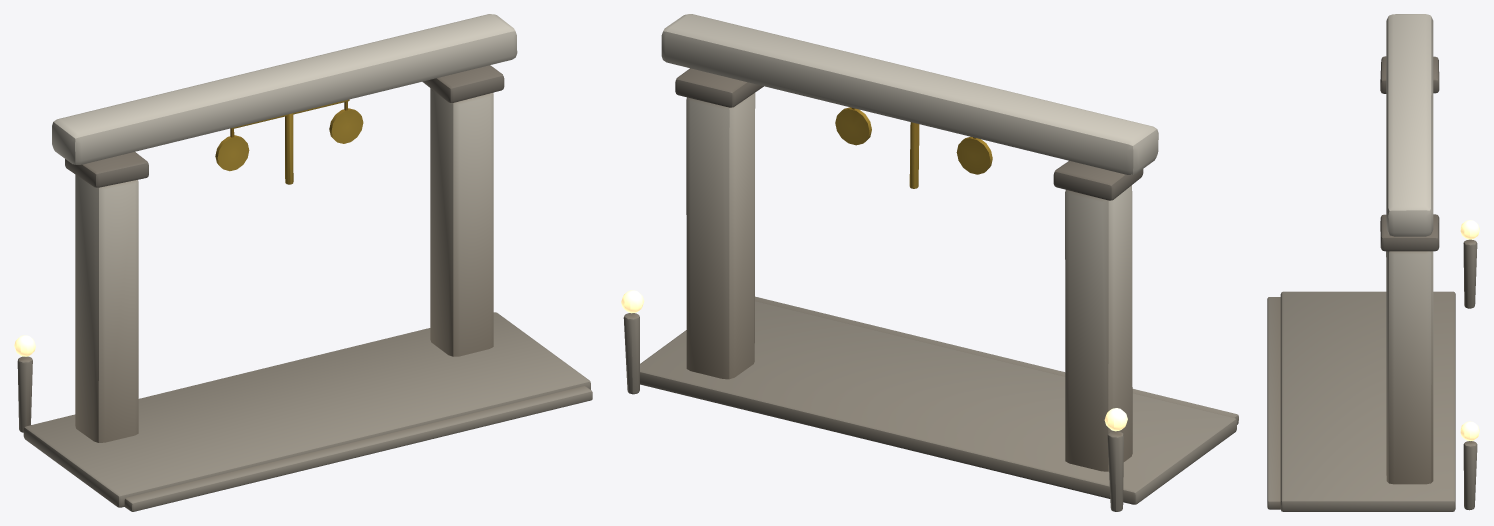
3 renders of one model, left to right at view 1: azimuth 30°, elevation 25°; view 2: azimuth 150°, elevation 25°; view 3: azimuth 270°, elevation 25°, orthographic. The views are drawn at different scales.
Visible parts, largest first — view 1: gate_956d6527; view 2: gate_956d6527; view 3: gate_956d6527.
Part boxes in pixels (x1,y1,x2,y2): gate_956d6527: (14, 14, 592, 511); gate_956d6527: (621, 14, 1238, 511); gate_956d6527: (1267, 14, 1479, 511).
Size of the model in its own units: 5.98 by 3.95 by 2.55.
